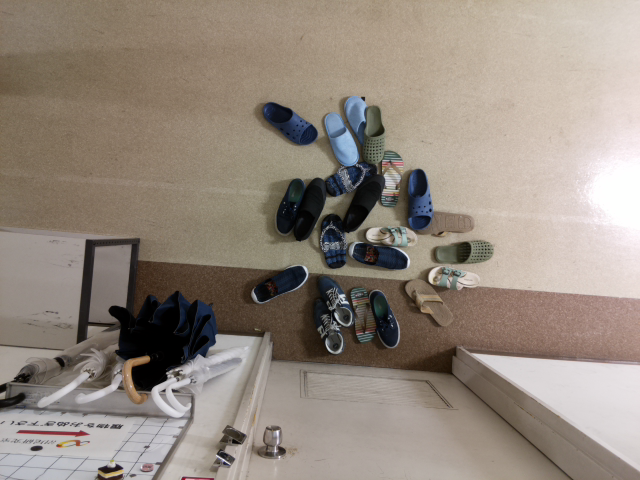Copy of Copy of Copy of Copy of Copy of Copy of Copy of Copy of Copy of Copy of: (259, 99, 321, 152), (343, 171, 388, 230), (320, 106, 360, 172), (320, 158, 378, 200), (345, 238, 410, 275), (338, 94, 376, 156), (313, 207, 351, 269), (415, 206, 480, 242), (402, 164, 434, 234), (376, 148, 406, 211), (359, 104, 389, 166), (362, 221, 421, 251)
Copy of Copy of Copy of Copy of Copy of Copy of Copy of Copy of Copy of shoe: (291, 175, 328, 245)
Copy of Copy of Copy of Copy of Copy of Copy of Copy of Copy of shoe: (272, 175, 307, 239)
Copy of Copy of Copy of Copy of Copy of Copy of Copy of shoe: (247, 260, 312, 308)
Copy of Copy of Copy of Copy of Copy of Copy of shoe: (315, 299, 350, 358)
Copy of Copy of Copy of Copy of Copy of shoe: (317, 270, 355, 329)
Copy of Copy of Copy of Copy of shoe: (345, 283, 383, 347)
Copy of Copy of Copy of shoe: (367, 286, 405, 349)
Copy of Copy of shoe: (401, 274, 460, 333)
Copy of shoe: (425, 261, 491, 294)
shoe: (431, 236, 497, 268)
